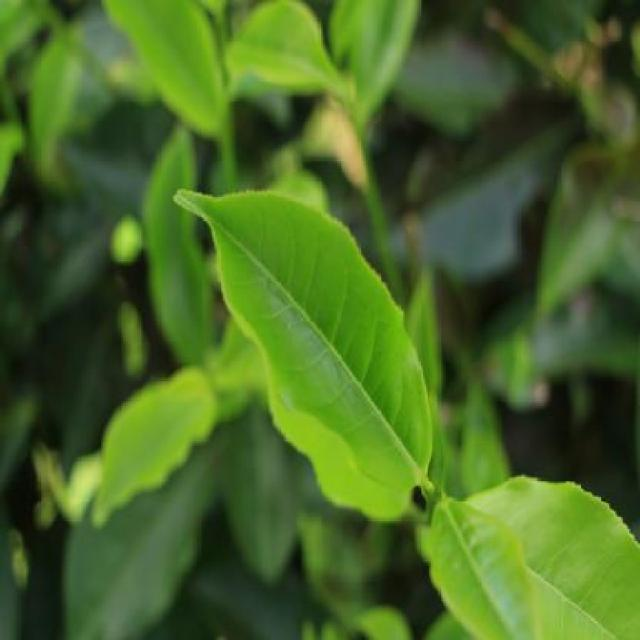Tea leaf: (174, 172, 446, 517)
